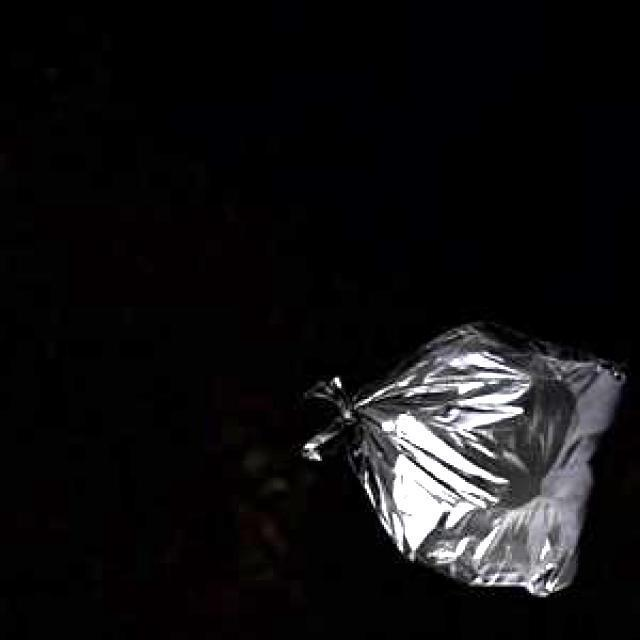Bolsa-de-nilon: (301, 320, 627, 601)
